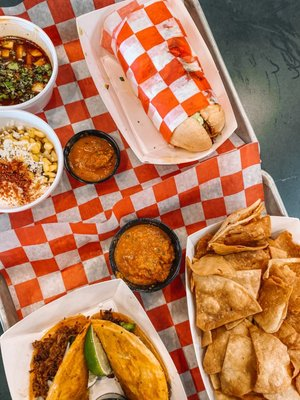soup: (28, 314, 91, 400)
sushi: (0, 110, 67, 215), (0, 15, 59, 116), (111, 218, 183, 293), (64, 129, 122, 184)
